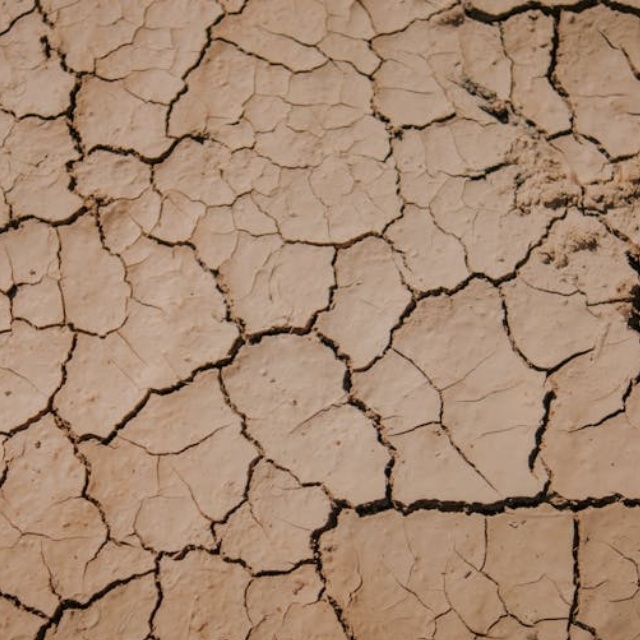细微裂纹: (251, 388, 640, 607), (0, 0, 219, 269), (327, 19, 446, 330), (505, 417, 635, 640), (119, 0, 253, 196)
网状裂隙: (0, 133, 444, 640)
